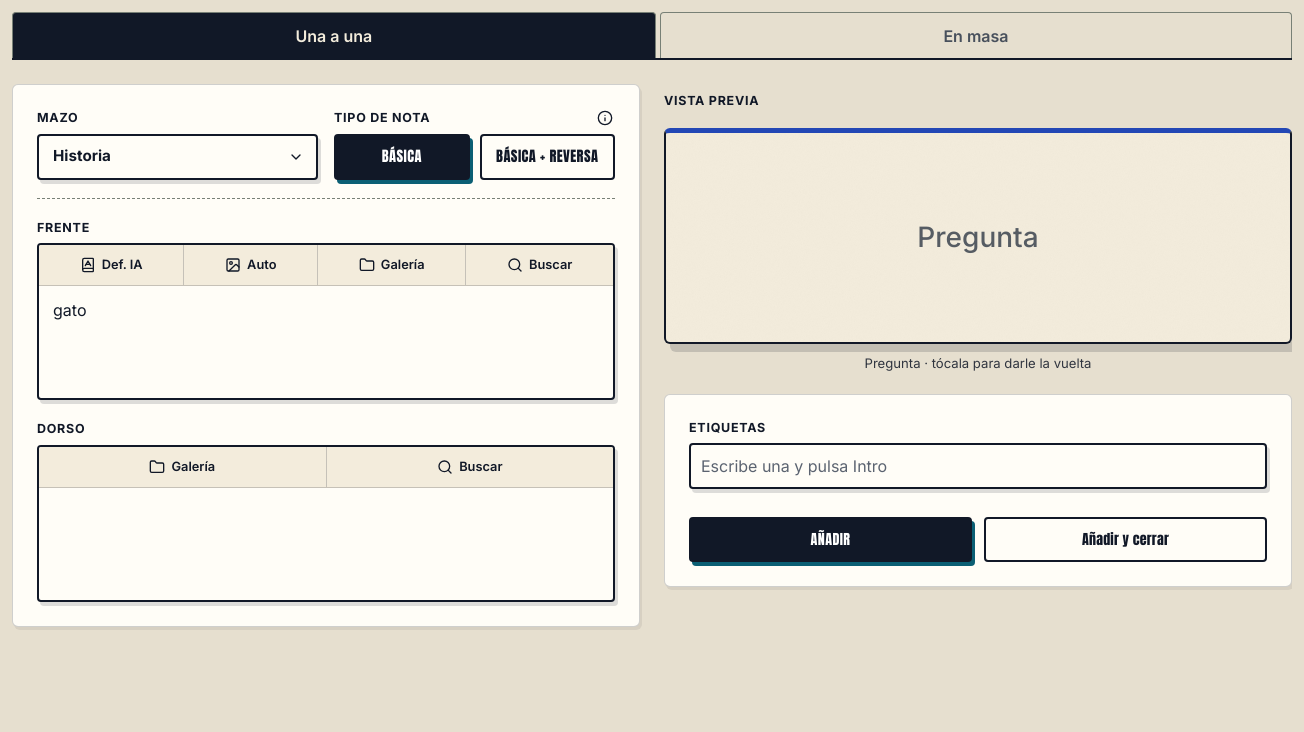
looking up a definition › fills the sides without asking when the back is empty
The width and height of the screenshot is (1304, 732).
Clear the field named "Frente de la tarjeta" at (70, 310), box [53, 300, 86, 320]
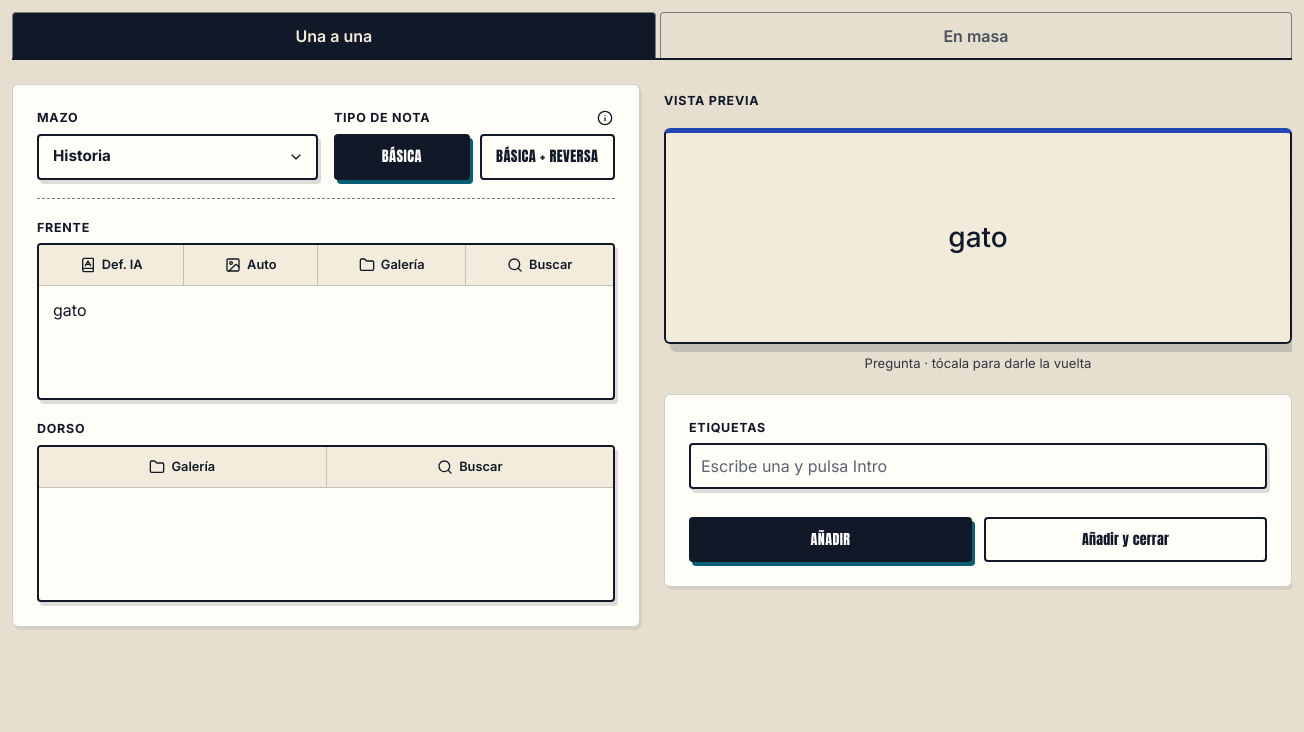
Click the button "Def. IA".
click(112, 265)  # box [39, 245, 184, 285]
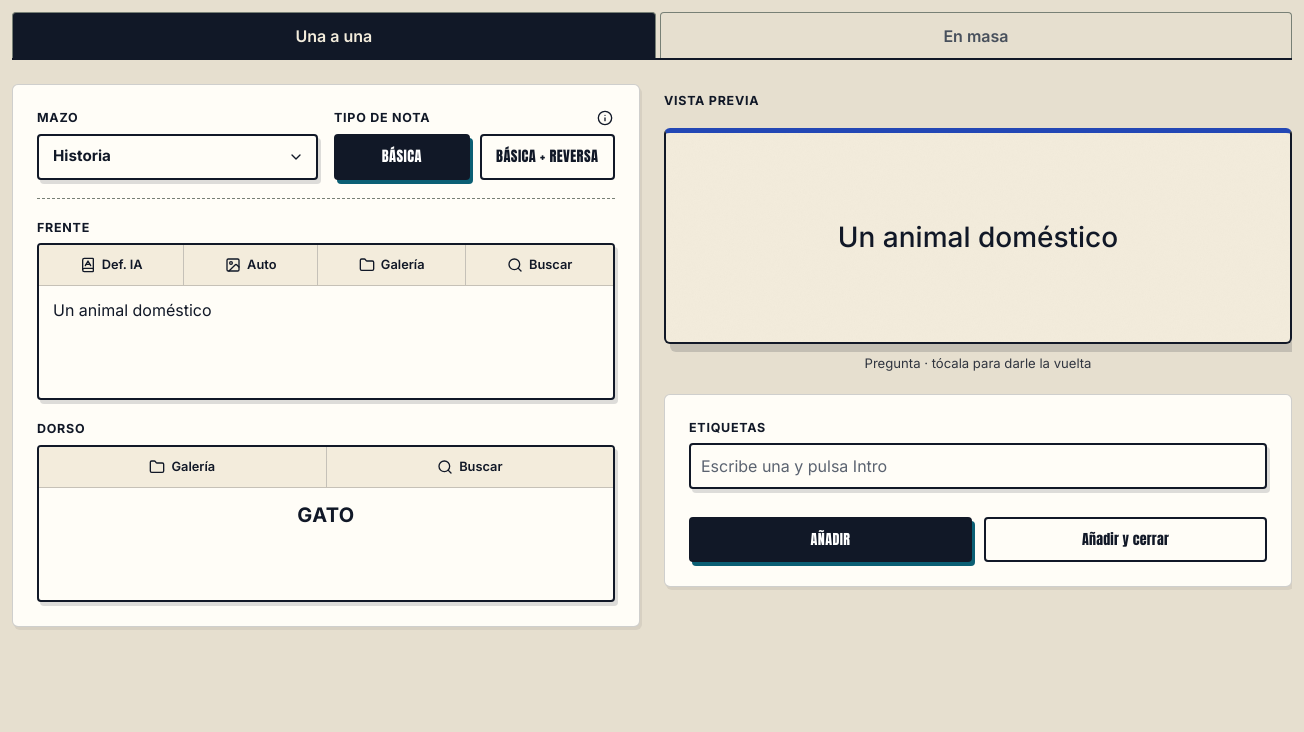
Result: the field named "Dorso de la tarjeta" reads "GATO" at [297, 503, 355, 527]
